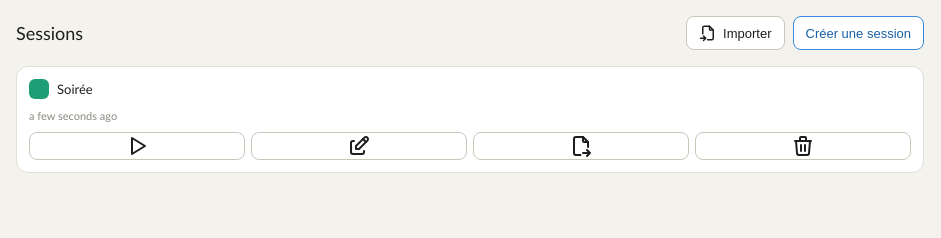
Test case: WorkflowDashboard › export / import › shows a generic error when export fails or rejects
The image size is (941, 238).
Click the button named "Exporter" at point(581, 146), box x1=473 y1=132 x2=689 y2=160
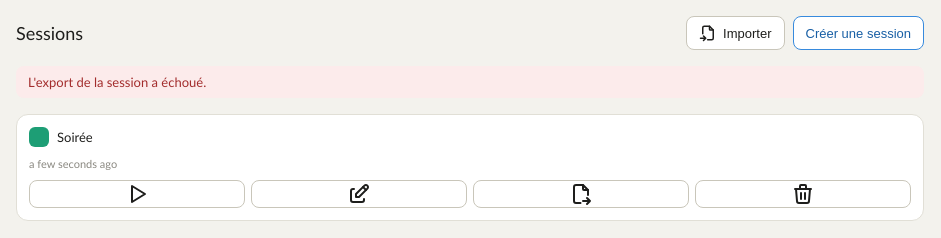
Now the message reads "L'export de la session a échoué.", box x1=28 y1=74 x2=206 y2=90
